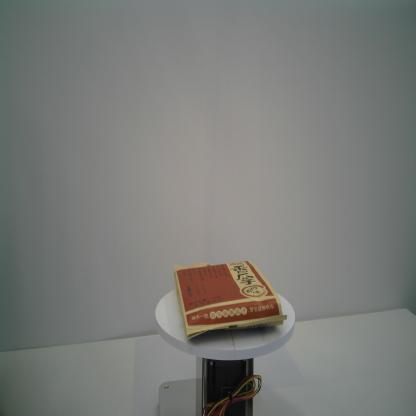Dried Food: (172, 258, 288, 342)
